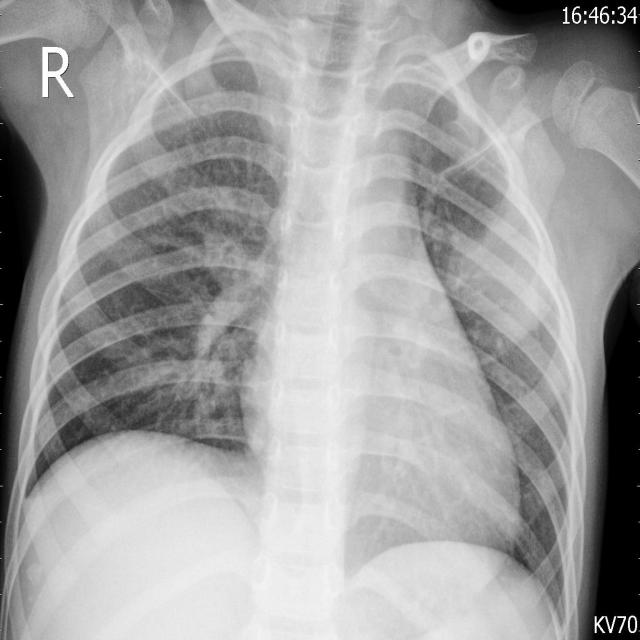high-pneumonia: (449, 201, 559, 340)
low-pneumonia: (170, 219, 262, 422)
